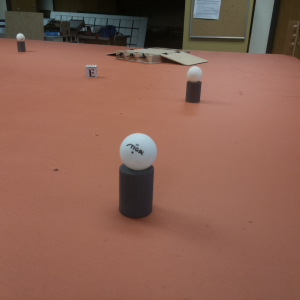obstacle: (119, 133, 158, 220), (186, 66, 204, 108), (15, 32, 28, 55)
side: (116, 50, 162, 66)
slope: (162, 53, 210, 66), (104, 49, 116, 58)
